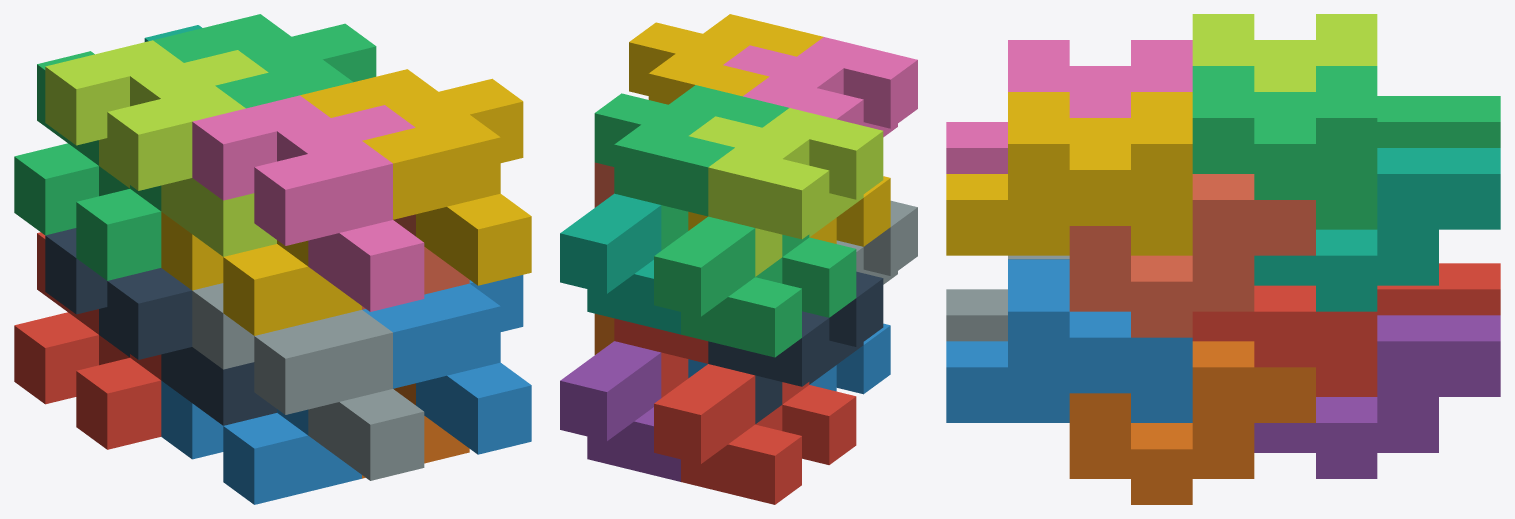
The model's file is tiling.obj.
3 views of the same model, side by side, from view 1: azimuth 30°, elevation 25°; view 2: azimuth 150°, elevation 25°; view 3: azimuth 270°, elevation 25° (orthographic). The views are drawn at different scales.
Visible parts, largest first — view 1: copy_2_domain_4, copy_2_domain_8, copy_2_domain_3, copy_2_domain_2, copy_2_domain_6, copy_2_domain_1, copy_1_domain_3, copy_1_domain_1, copy_1_domain_4, copy_1_domain_2, copy_2_domain_7, copy_1_domain_6 (+1 smaller); view 2: copy_1_domain_1, copy_1_domain_3, copy_2_domain_3, copy_2_domain_7, copy_2_domain_4, copy_1_domain_5, copy_1_domain_7, copy_2_domain_8, copy_2_domain_1, copy_2_domain_2, copy_2_domain_5, copy_1_domain_2 (+3 smaller); view 3: copy_2_domain_8, copy_2_domain_6, copy_2_domain_7, copy_1_domain_8, copy_1_domain_6, copy_1_domain_7, copy_1_domain_5, copy_2_domain_4, copy_2_domain_5, copy_2_domain_3, copy_1_domain_3, copy_1_domain_1 (+1 smaller).
Part boxes in pixels (left/top/right/bottom): copy_2_domain_4: left=192, top=95, right=424, bottom=311; copy_2_domain_8: left=300, top=69, right=531, bottom=285; copy_2_domain_3: left=45, top=40, right=276, bottom=256; copy_2_domain_2: left=192, top=283, right=424, bottom=480; copy_2_domain_6: left=362, top=275, right=531, bottom=454; copy_2_domain_1: left=45, top=228, right=276, bottom=425; copy_1_domain_3: left=14, top=51, right=161, bottom=280; copy_1_domain_1: left=14, top=232, right=161, bottom=449; copy_1_domain_4: left=161, top=212, right=361, bottom=335; copy_1_domain_2: left=161, top=381, right=361, bottom=504; copy_2_domain_7: left=153, top=14, right=376, bottom=108; copy_1_domain_6: left=362, top=383, right=469, bottom=478; copy_1_domain_1: left=654, top=364, right=856, bottom=504; copy_1_domain_3: left=654, top=216, right=856, bottom=357; copy_2_domain_3: left=689, top=108, right=883, bottom=276; copy_2_domain_7: left=594, top=85, right=788, bottom=250; copy_2_domain_4: left=723, top=37, right=917, bottom=137; copy_1_domain_5: left=560, top=341, right=680, bottom=481; copy_1_domain_7: left=560, top=193, right=680, bottom=334; copy_2_domain_8: left=629, top=14, right=823, bottom=104; copy_2_domain_1: left=708, top=271, right=883, bottom=423; copy_2_domain_2: left=836, top=200, right=917, bottom=284; copy_2_domain_5: left=614, top=318, right=708, bottom=397; copy_1_domain_2: left=688, top=323, right=890, bottom=394; copy_2_domain_8: left=946, top=92, right=1192, bottom=255; copy_2_domain_6: left=946, top=259, right=1192, bottom=422; copy_2_domain_7: left=1192, top=66, right=1377, bottom=229; copy_1_domain_8: left=1069, top=174, right=1315, bottom=337; copy_1_domain_6: left=1069, top=341, right=1315, bottom=504; copy_1_domain_7: left=1254, top=148, right=1500, bottom=311; copy_1_domain_5: left=1254, top=315, right=1500, bottom=478; copy_2_domain_4: left=946, top=40, right=1192, bottom=173; copy_2_domain_5: left=1192, top=285, right=1377, bottom=396; copy_2_domain_3: left=1192, top=14, right=1377, bottom=91; copy_1_domain_3: left=1377, top=96, right=1500, bottom=147; copy_1_domain_1: left=1377, top=263, right=1500, bottom=315.
Size of the model in its own units: 6 by 6 by 9.
